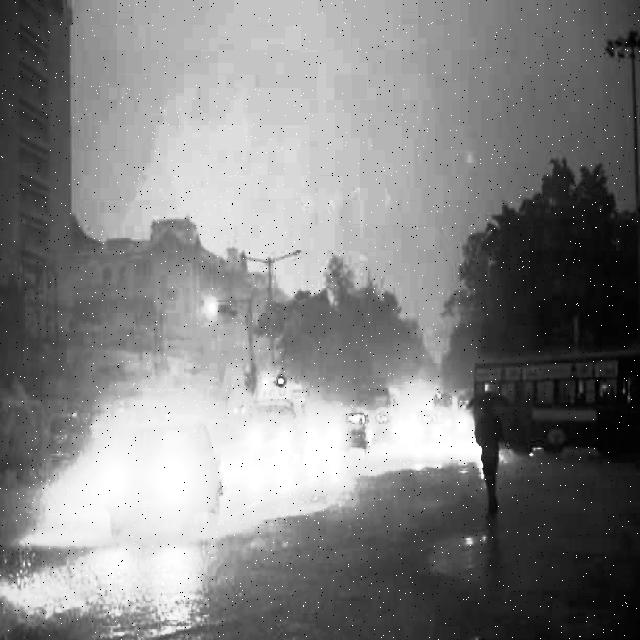Ambulance: (251, 372, 312, 476), (261, 378, 290, 403)
